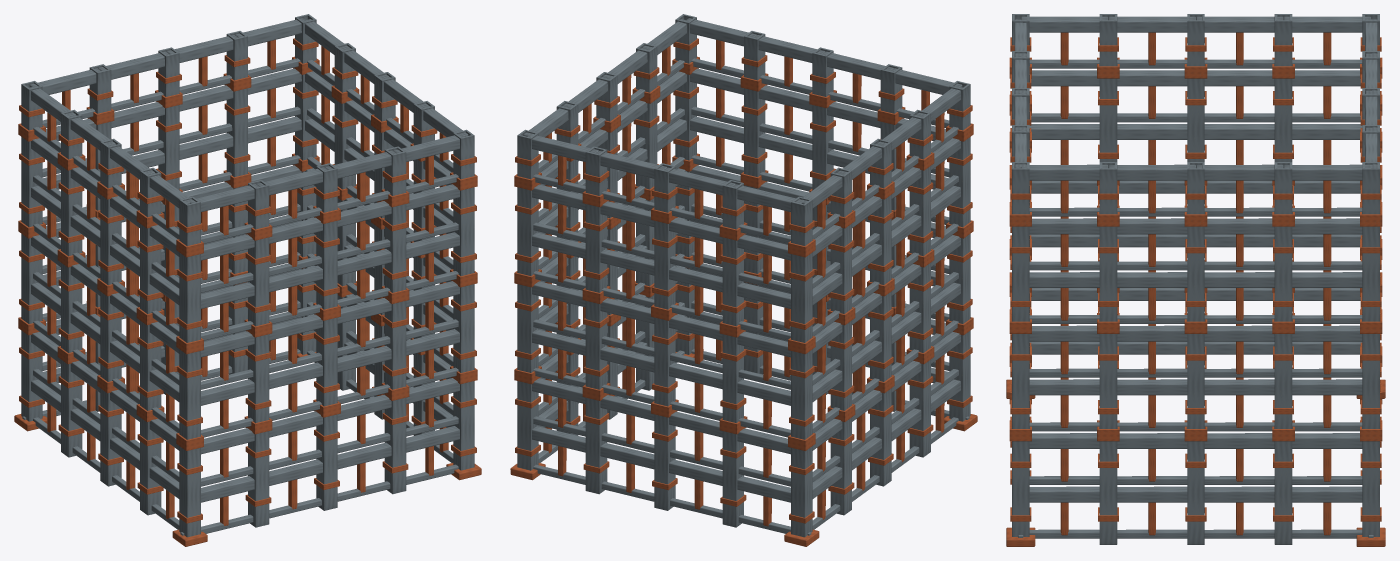
The picture shows the model from 3 angles, left to right: view 1: azimuth 30°, elevation 25°; view 2: azimuth 150°, elevation 25°; view 3: azimuth 270°, elevation 25°; orthographic projection. The views are drawn at different scales.
Visible parts, largest first — view 1: Tier 0 side 0 post 0, Tier 2 side 0 post 0, Tier 1 side 0 post 0, Tier 0 side 0 post 3, Tier 0 side 0 post 1, Tier 0 side 0 post 2, Tier 2 side 0 post 3, Tier 1 side 0 post 3, Tier 2 side 0 post 1, Tier 1 side 0 post 1, Tier 0 side 1 post 0, Tier 1 side 1 post 0 (+86 smaller); view 2: Tier 0 side 3 post 0, Tier 2 side 3 post 0, Tier 0 side 2 post 1, Tier 1 side 3 post 0, Tier 0 side 2 post 3, Tier 0 side 2 post 2, Tier 2 side 2 post 1, Tier 1 side 2 post 1, Tier 2 side 2 post 3, Tier 1 side 2 post 3, Tier 0 side 2 post 0, Tier 1 side 2 post 0 (+86 smaller); view 3: Tier 0 side 1 post 1, Tier 0 side 1 post 3, Tier 0 side 1 post 2, Tier 2 side 1 post 1, Tier 2 side 1 post 3, Tier 1 side 1 post 1, Tier 1 side 1 post 3, Tier 2 side 1 post 0, Tier 2 side 1 post 2, Tier 2 side 2 post 0, Tier 0 side 1 post 0, Tier 0 side 2 post 0 (+106 smaller).
Boxes of the visible parts, x1=… form: Tier 0 side 0 post 0: x1=179, y1=446, x2=200, y2=537; Tier 2 side 0 post 0: x1=179, y1=252, x2=200, y2=342; Tier 1 side 0 post 0: x1=179, y1=349, x2=200, y2=439; Tier 0 side 0 post 3: x1=384, y1=397, x2=406, y2=494; Tier 0 side 0 post 1: x1=248, y1=431, x2=269, y2=527; Tier 0 side 0 post 2: x1=316, y1=414, x2=337, y2=510; Tier 2 side 0 post 3: x1=384, y1=204, x2=406, y2=292; Tier 1 side 0 post 3: x1=384, y1=301, x2=406, y2=389; Tier 2 side 0 post 1: x1=248, y1=237, x2=269, y2=326; Tier 1 side 0 post 1: x1=248, y1=334, x2=269, y2=422; Tier 0 side 1 post 0: x1=453, y1=381, x2=474, y2=470; Tier 1 side 1 post 0: x1=453, y1=284, x2=474, y2=372; Tier 0 side 3 post 0: x1=791, y1=446, x2=812, y2=537; Tier 2 side 3 post 0: x1=791, y1=252, x2=812, y2=342; Tier 0 side 2 post 1: x1=585, y1=397, x2=607, y2=494; Tier 1 side 3 post 0: x1=791, y1=349, x2=812, y2=439; Tier 0 side 2 post 3: x1=722, y1=431, x2=743, y2=527; Tier 0 side 2 post 2: x1=654, y1=414, x2=675, y2=510; Tier 2 side 2 post 1: x1=585, y1=204, x2=607, y2=292; Tier 1 side 2 post 1: x1=585, y1=301, x2=607, y2=389; Tier 2 side 2 post 3: x1=722, y1=237, x2=743, y2=326; Tier 1 side 2 post 3: x1=722, y1=334, x2=743, y2=422; Tier 0 side 2 post 0: x1=517, y1=381, x2=538, y2=470; Tier 1 side 2 post 0: x1=517, y1=284, x2=538, y2=372; Tier 0 side 1 post 1: x1=1099, y1=441, x2=1117, y2=544; Tier 0 side 1 post 3: x1=1274, y1=441, x2=1292, y2=544; Tier 0 side 1 post 2: x1=1187, y1=441, x2=1204, y2=544; Tier 2 side 1 post 1: x1=1099, y1=226, x2=1117, y2=321; Tier 2 side 1 post 3: x1=1274, y1=226, x2=1292, y2=321; Tier 1 side 1 post 1: x1=1099, y1=334, x2=1117, y2=428; Tier 1 side 1 post 3: x1=1274, y1=334, x2=1292, y2=428; Tier 2 side 1 post 0: x1=1012, y1=226, x2=1029, y2=321; Tier 2 side 1 post 2: x1=1187, y1=226, x2=1204, y2=321; Tier 2 side 2 post 0: x1=1362, y1=226, x2=1379, y2=321; Tier 0 side 1 post 0: x1=1012, y1=441, x2=1029, y2=536; Tier 0 side 2 post 0: x1=1362, y1=441, x2=1379, y2=536.
Bounding box in the file's own units: 1.95 × 2.13 × 1.95.
2 materials, 2 textured.
